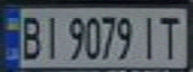0: (81, 12, 103, 61)
7: (100, 12, 118, 61)
9: (63, 12, 84, 61), (115, 12, 136, 61)
B: (15, 11, 45, 61)
I: (136, 11, 163, 61), (39, 11, 63, 61)
T: (154, 11, 187, 61)
